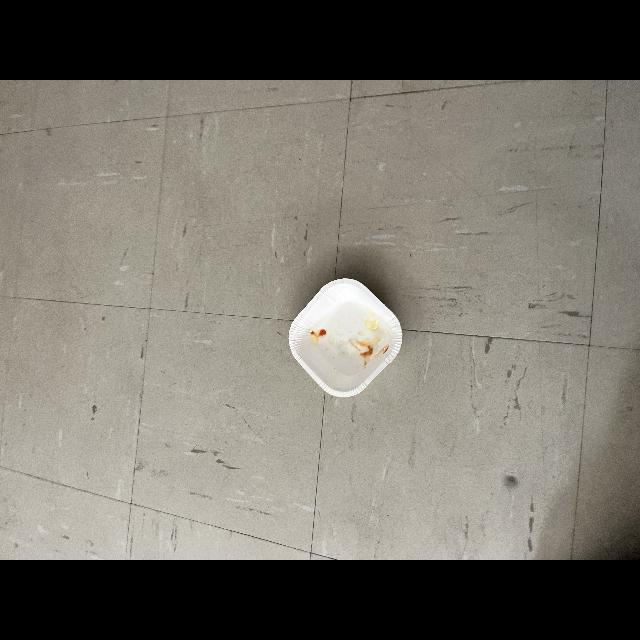cardboard_bowl: (288, 272, 404, 400)
